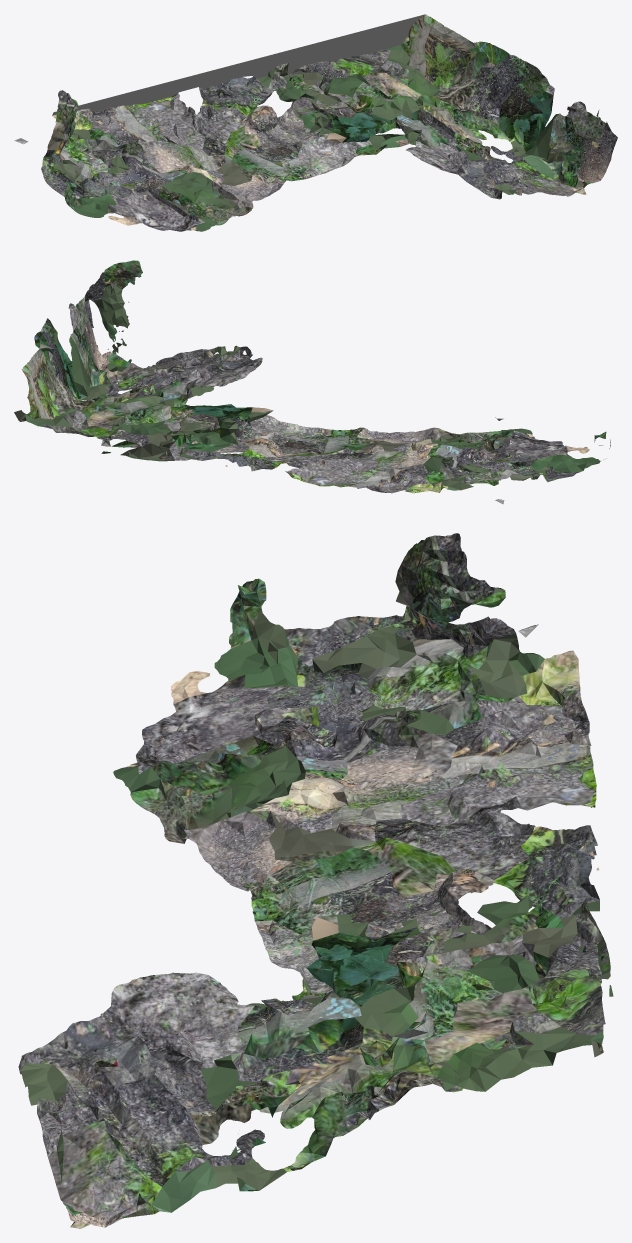
Rendered from garden_1_10000f_8192t.gltf.
3 renders of one model, top to bottom at view 1: azimuth 30°, elevation 25°; view 2: azimuth 150°, elevation 25°; view 3: azimuth 270°, elevation 25°, orthographic. The views are drawn at different scales.
Size of the model in its own units: 14.81 by 3.87 by 7.51.
1 material, 1 textured.
